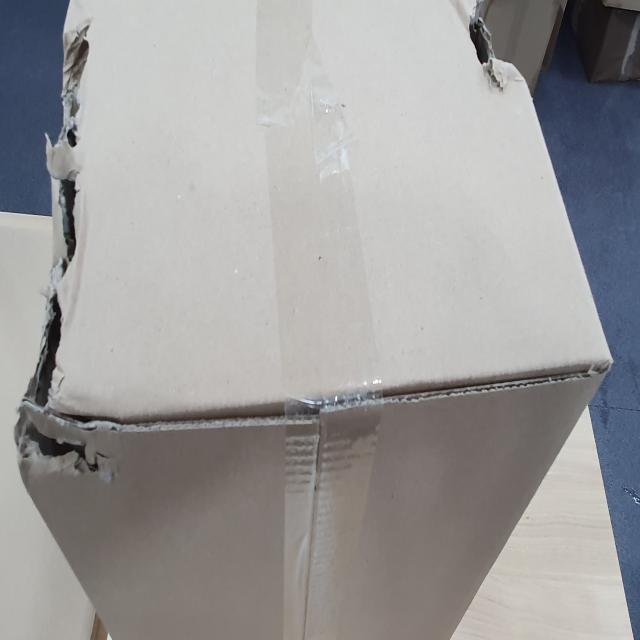hole: (14, 18, 102, 476), (465, 10, 508, 90)
